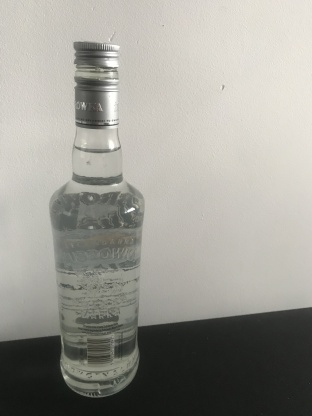nakretka: (71, 38, 121, 129)
